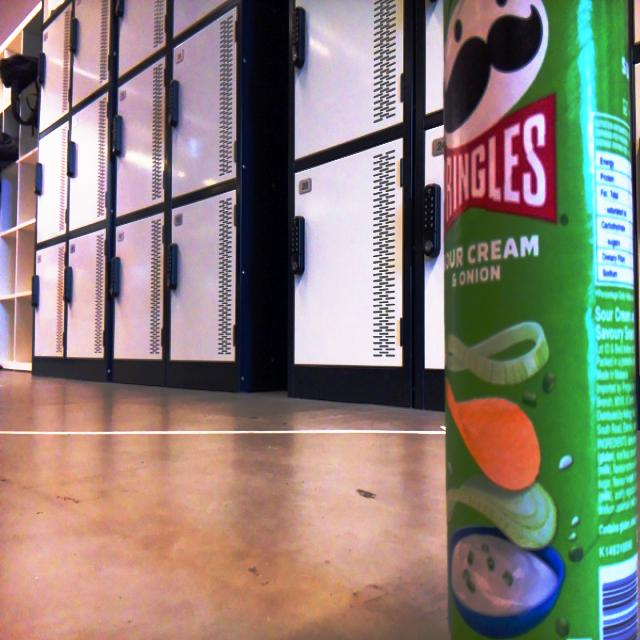greenpringles: (419, 0, 640, 640)
